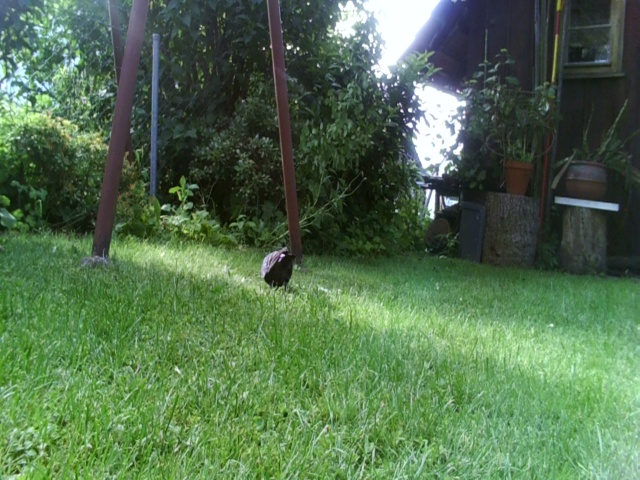Pigeon: (247, 240, 298, 292)
